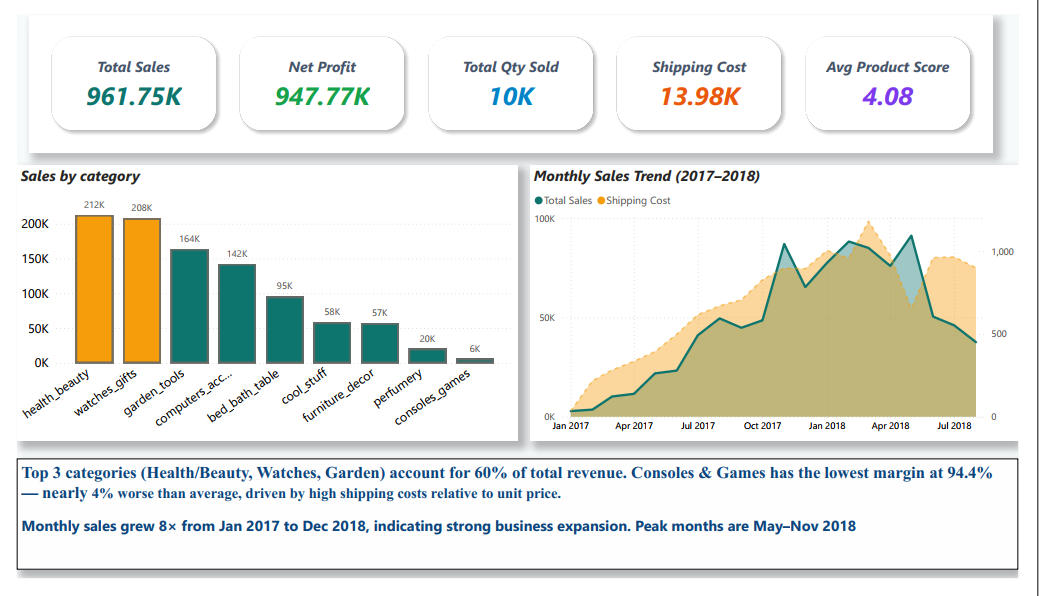

The dashboard page shown, as its layout file describes it:
{"tool":"powerbi","page":{"name":"Executive Summary","canvas":[1280,720],"ordinal":0},"visuals":[{"type":"cardVisual","fields":{"Data":["_Measures.Total Sales","_Measures.Net Profit","_Measures.Total Qty Sold","_Measures.Total Shipping","_Measures.Avg Product Score"]},"box":[16,0,1232,176],"z":0},{"type":"clusteredColumnChart","title":"Sales by category","fields":{"Y":["_Measures.Total Sales"],"Category":["dim_products.product_category_name"]},"box":[0,192,640,352],"z":1000},{"type":"lineChart","title":"Monthly Sales Trend (2017–2018)","fields":{"Y":["_Measures.Total Sales"],"Y2":["_Measures.Shipping Cost"],"Category":["Fact_Sales.month_year"]},"box":[656,192,624,352],"z":2000},{"type":"textbox","box":[0,566.9,1279.8,141.7],"z":3000}]}

Visuals, with their boxes in screenshot pixels (x1, y1, x2, y2), scaled from the page's 1280x720 canvas onto the 1039x596 screenshot:
cardVisual - _Measures.Total Sales x _Measures.Net Profit: bbox(13, 0, 1013, 146)
"Sales by category" clusteredColumnChart: bbox(0, 159, 520, 450)
"Monthly Sales Trend (2017–2018)" lineChart: bbox(532, 159, 1038, 450)
textbox: bbox(0, 469, 1038, 587)
